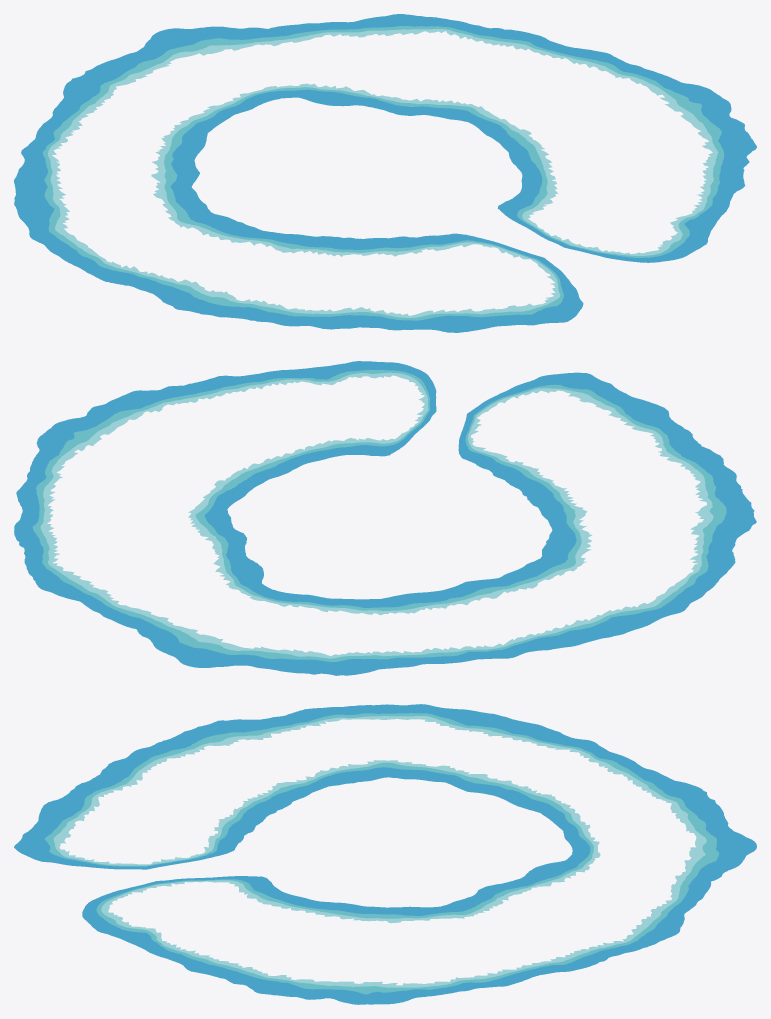
File: Isl-atoll5-Water.fbx
3 views of the same model, one above another, from view 1: azimuth 30°, elevation 25°; view 2: azimuth 150°, elevation 25°; view 3: azimuth 270°, elevation 25° (orthographic). The views are drawn at different scales.
Visible parts, largest first — view 1: Isl-atoll5-Water; view 2: Isl-atoll5-Water; view 3: Isl-atoll5-Water.
Part boxes in pixels (x1=…): Isl-atoll5-Water: x1=14, y1=14, x2=756, y2=332; Isl-atoll5-Water: x1=14, y1=361, x2=756, y2=675; Isl-atoll5-Water: x1=14, y1=704, x2=756, y2=1004.
Bounding box in the file's own units: 148 × 0 × 155.
